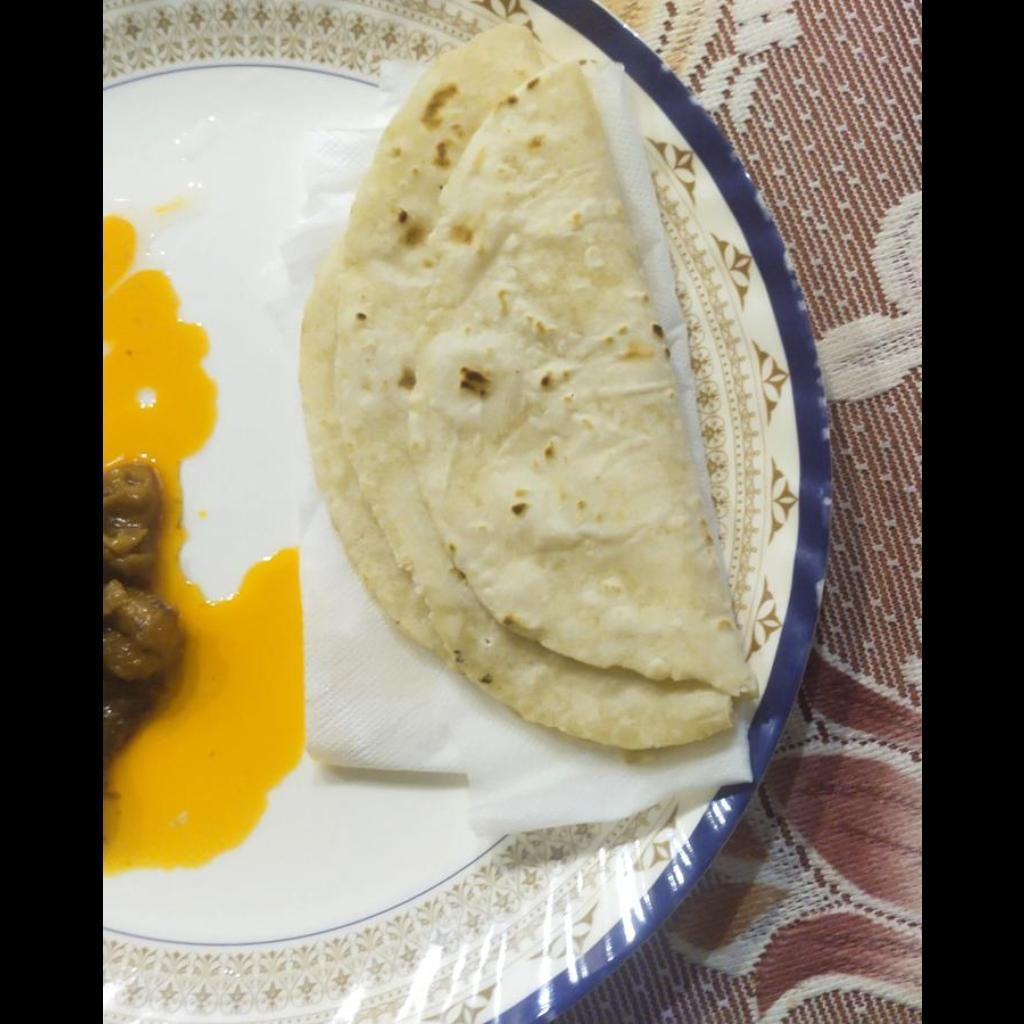ruti: (298, 24, 763, 749)
vegetable: (102, 459, 184, 796)
